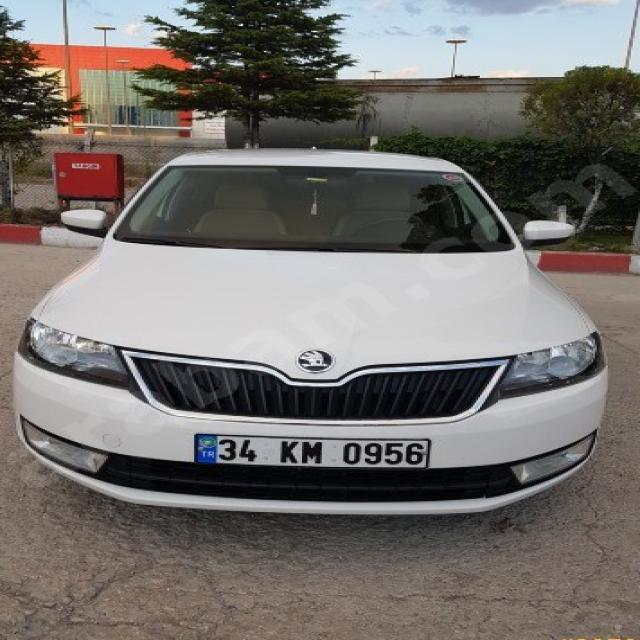license_plate: (192, 433, 430, 470)
